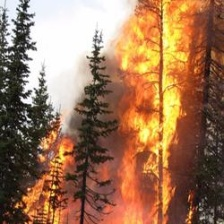fire: (114, 2, 224, 200), (17, 118, 78, 224)
